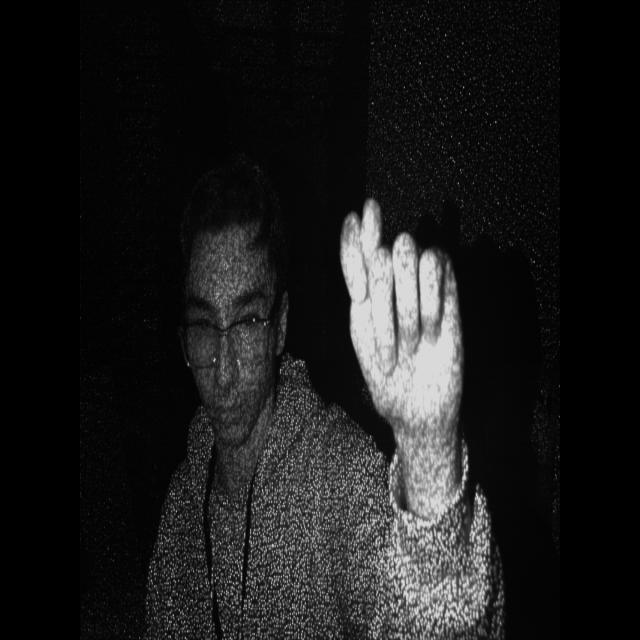T: (329, 180, 477, 444)
